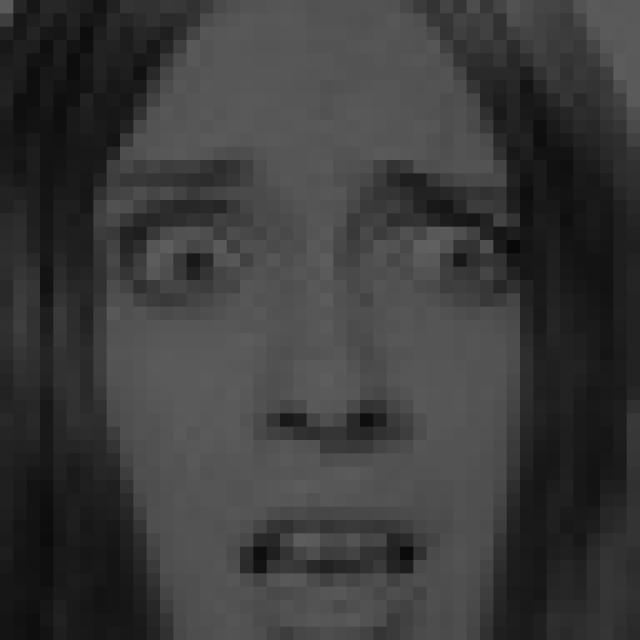fear: (113, 154, 516, 640)
